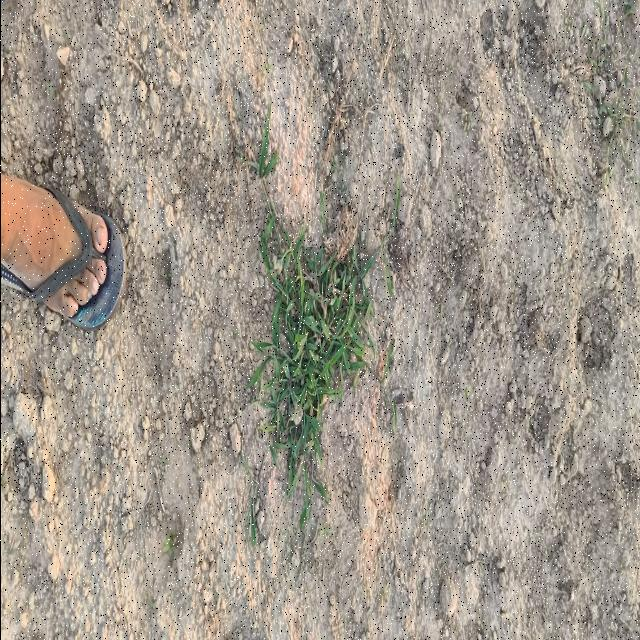plant: (247, 203, 373, 524)
